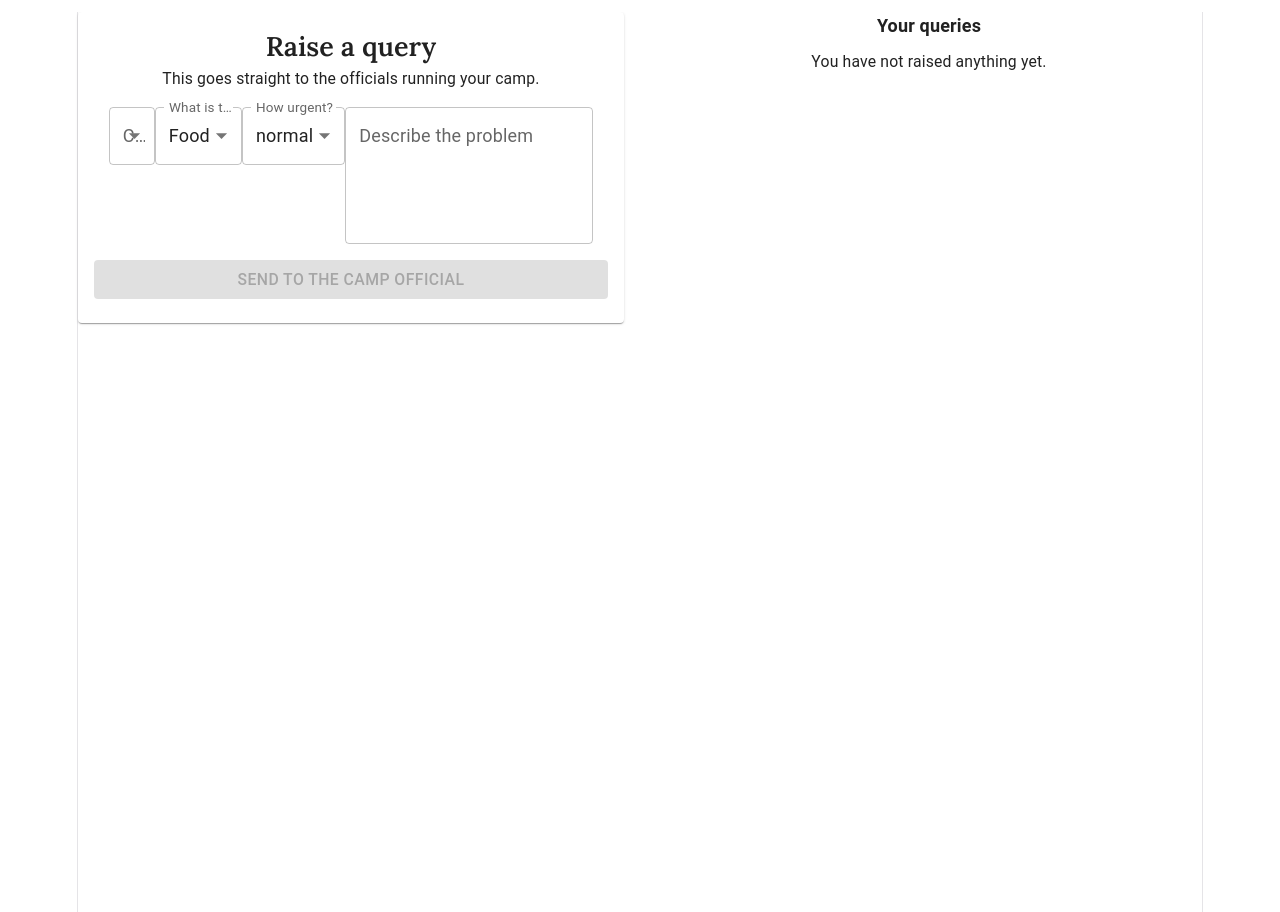
Test: RaiseComplaintPage › will not send until the description is substantial
The image size is (1280, 912).
Step 1. Click the dropdown named "camp" → (132, 136), box [109,106,155,165]
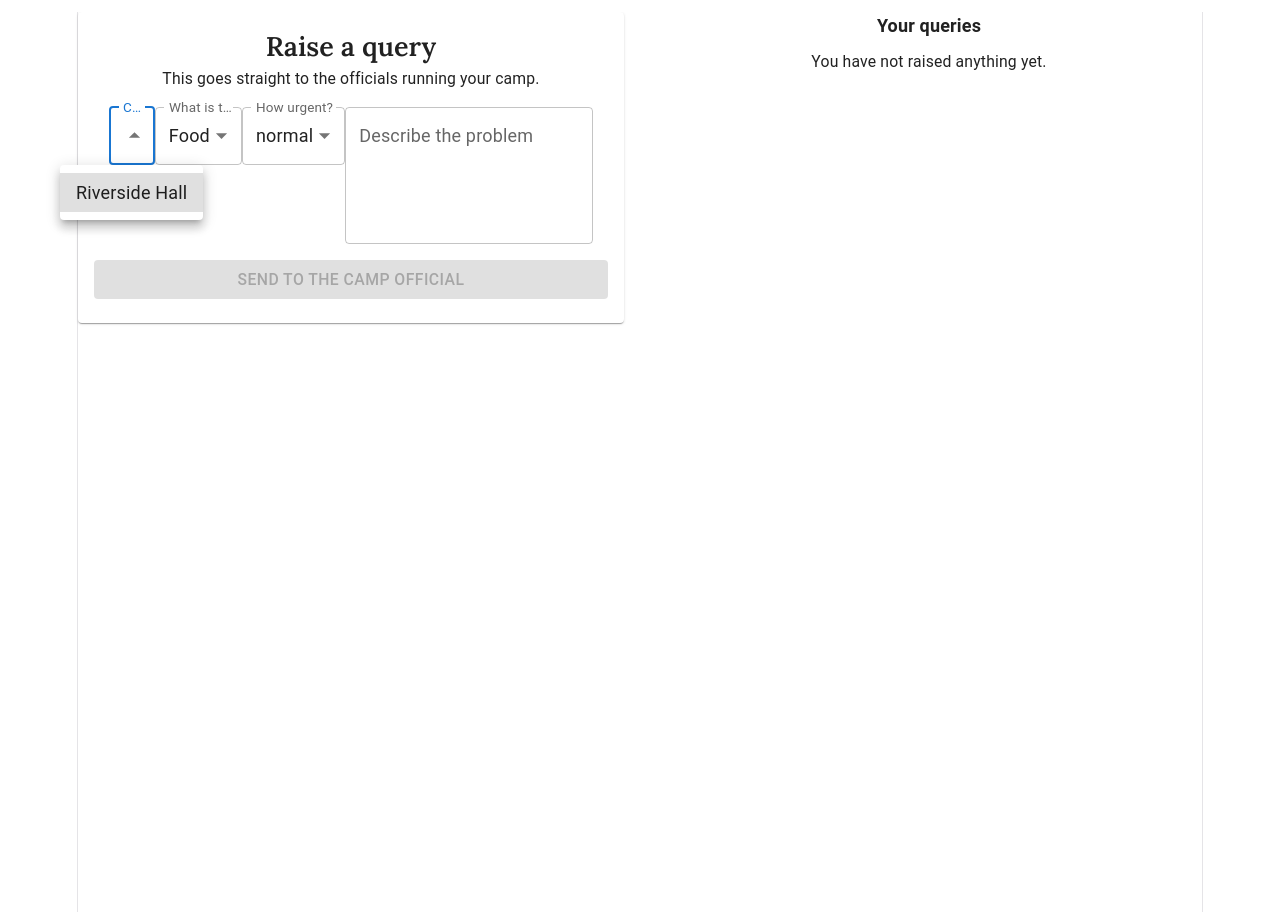
Step 2. Click the option "Riverside Hall" → (132, 192), box [60,173,203,212]
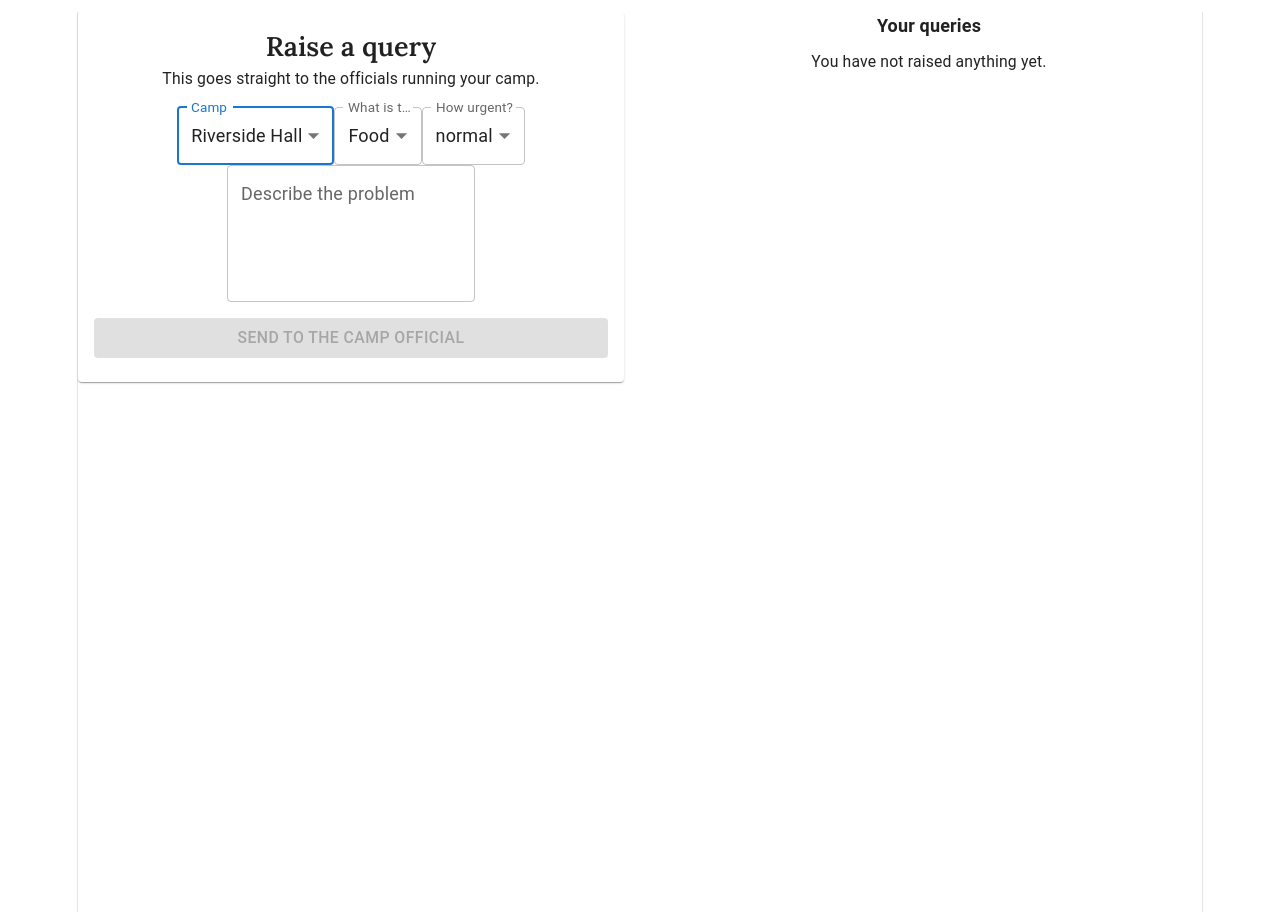
Expected: the button "Send to the camp official" is disabled, [94,318,608,358]
Step 3. Type "The water point is dry." into the text box labelled "Describe the problem" → (351, 234), box [241,182,461,286]
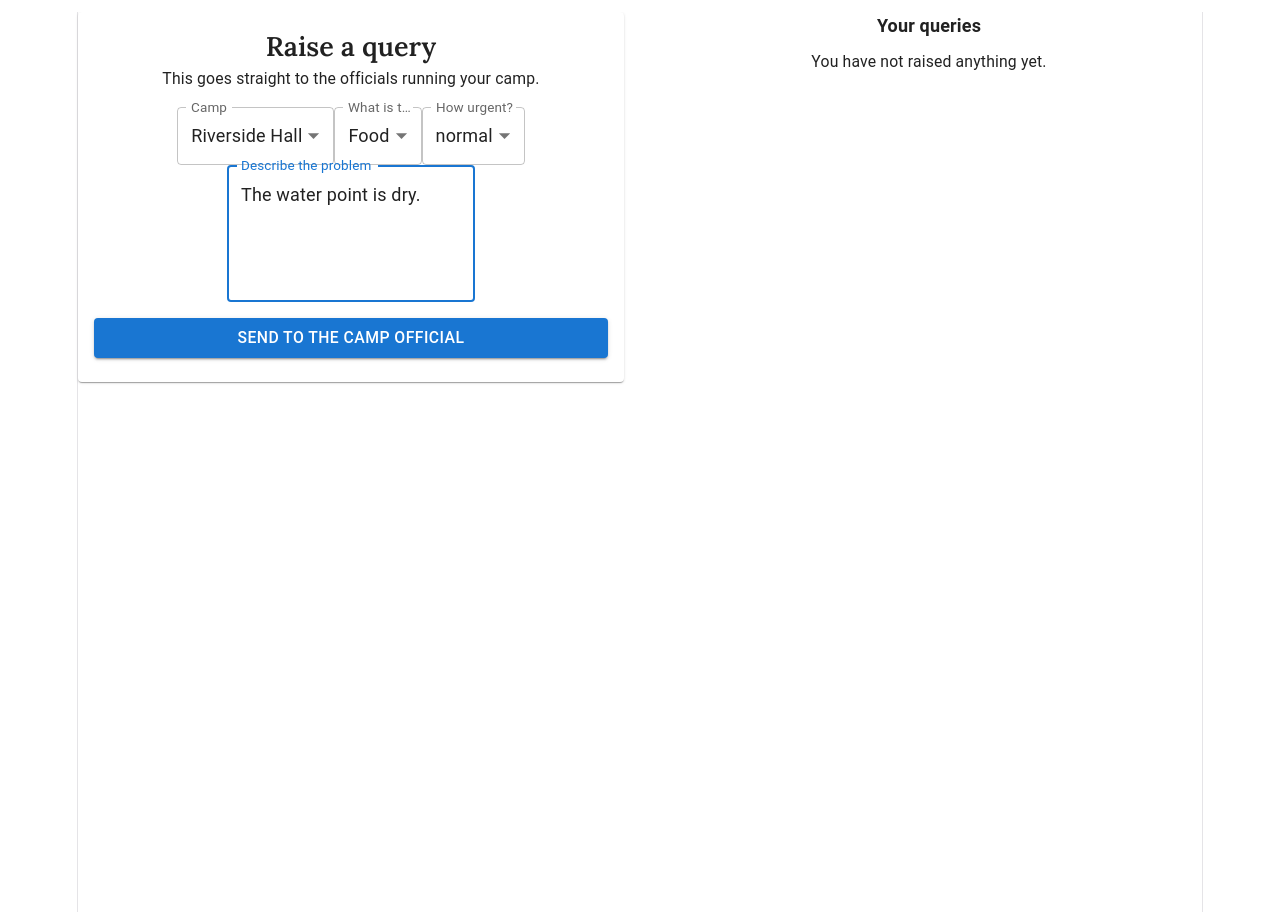
Expected: the button "Send to the camp official" is enabled, [94,318,608,358]
